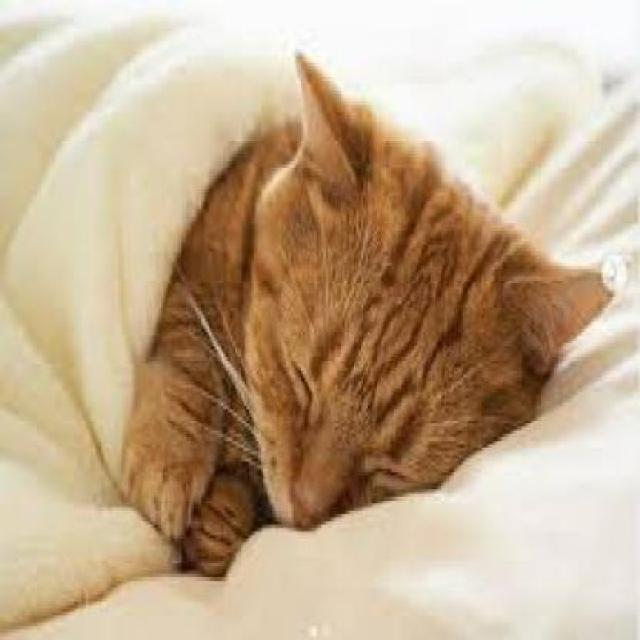cat: (127, 44, 619, 585)
